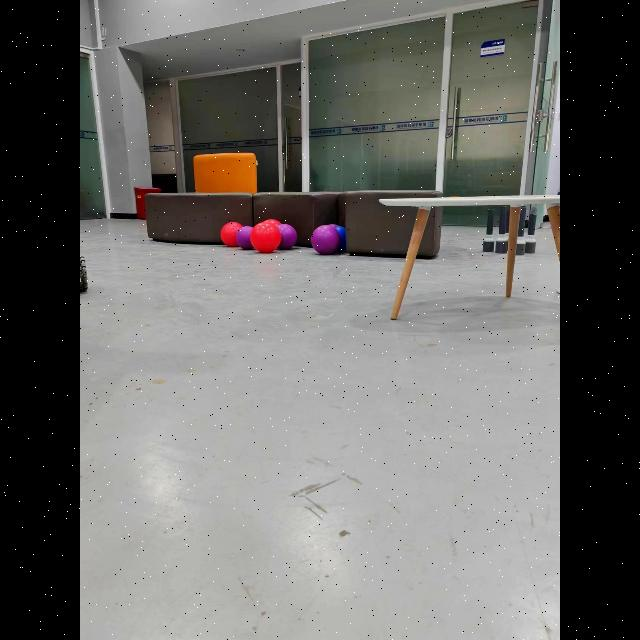B: (335, 225, 346, 252)
P: (311, 225, 340, 255), (278, 224, 298, 250), (235, 226, 252, 250)
R: (250, 221, 281, 252), (220, 221, 242, 246), (264, 219, 281, 226)
